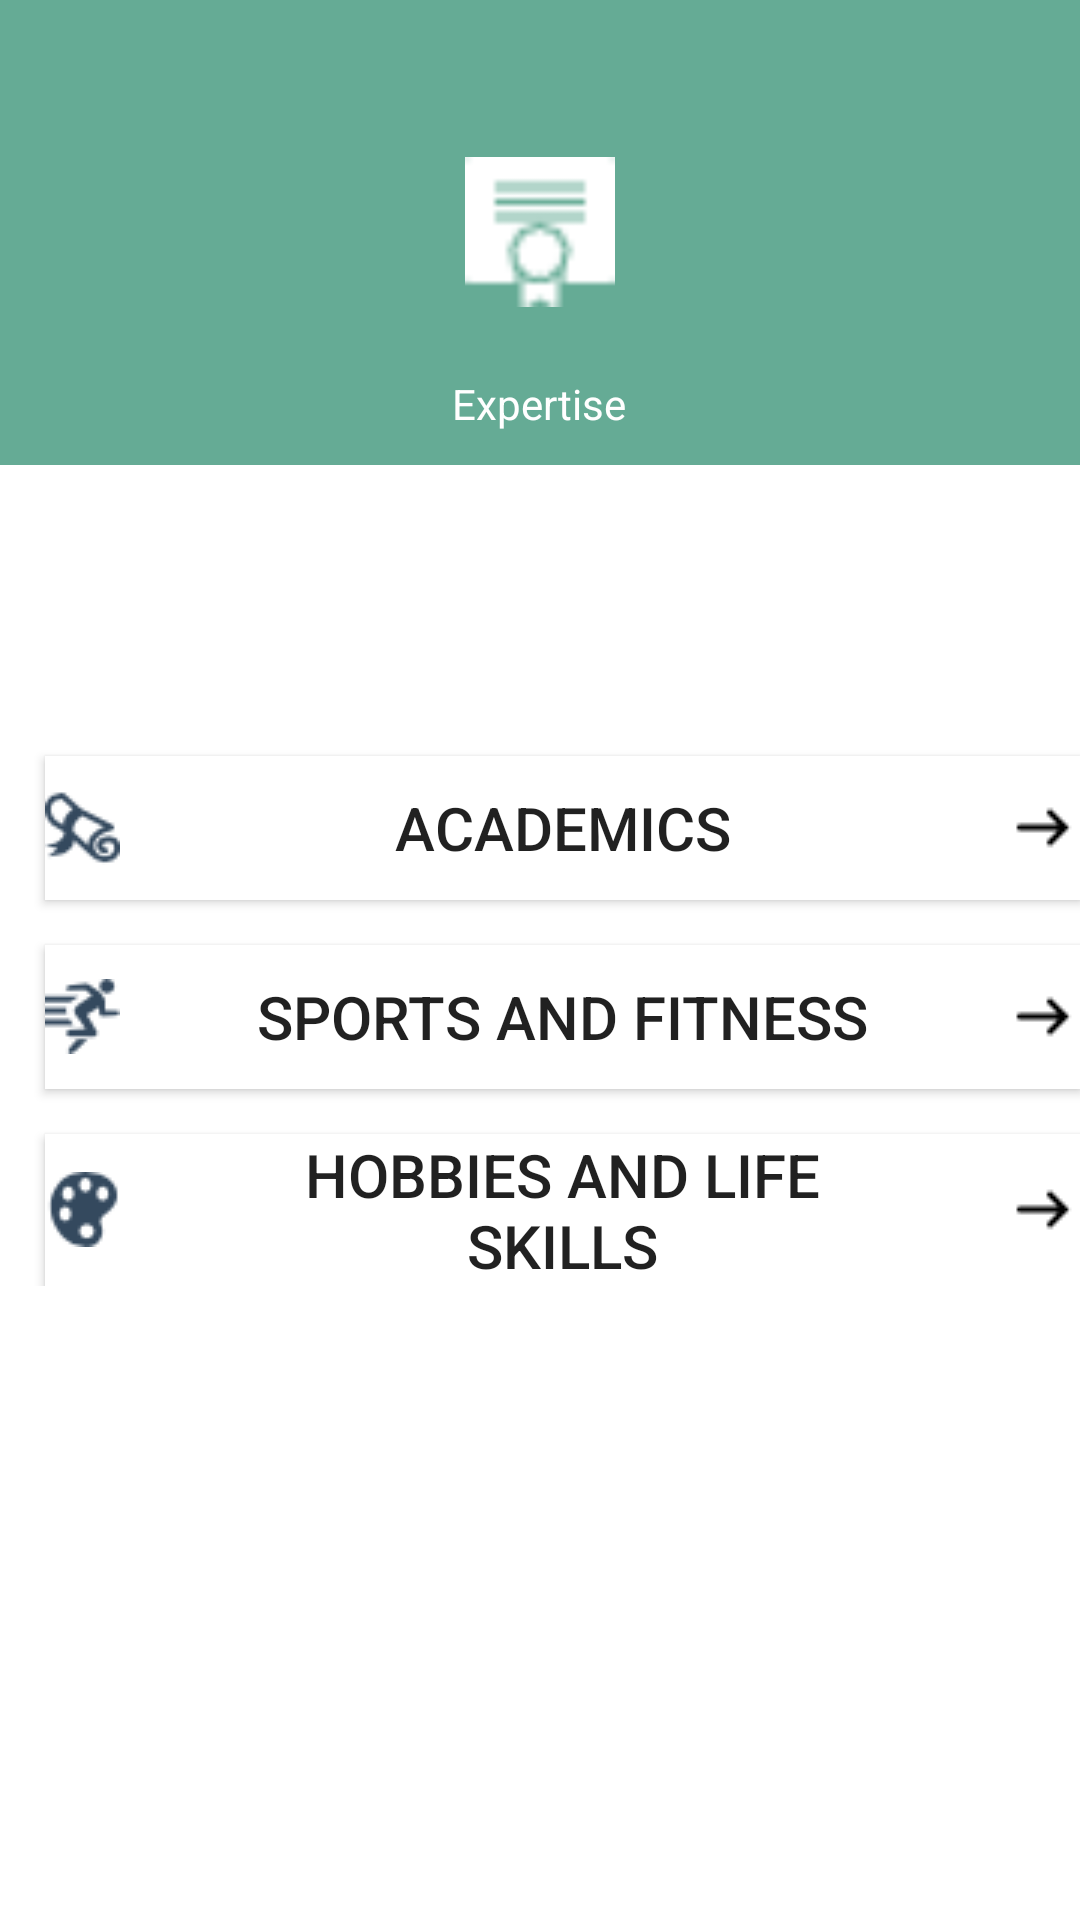

Icon click points for this 1080px×1920px phone screenshot, format point (x, y):
qualification ui: point (540, 232)
